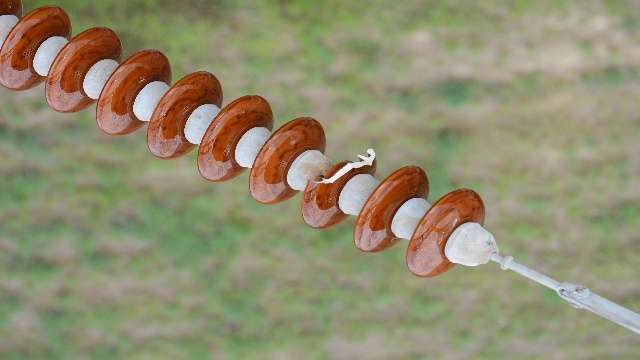broken_local: (307, 148, 376, 187)
insulator_unspecified: (0, 0, 487, 279)
